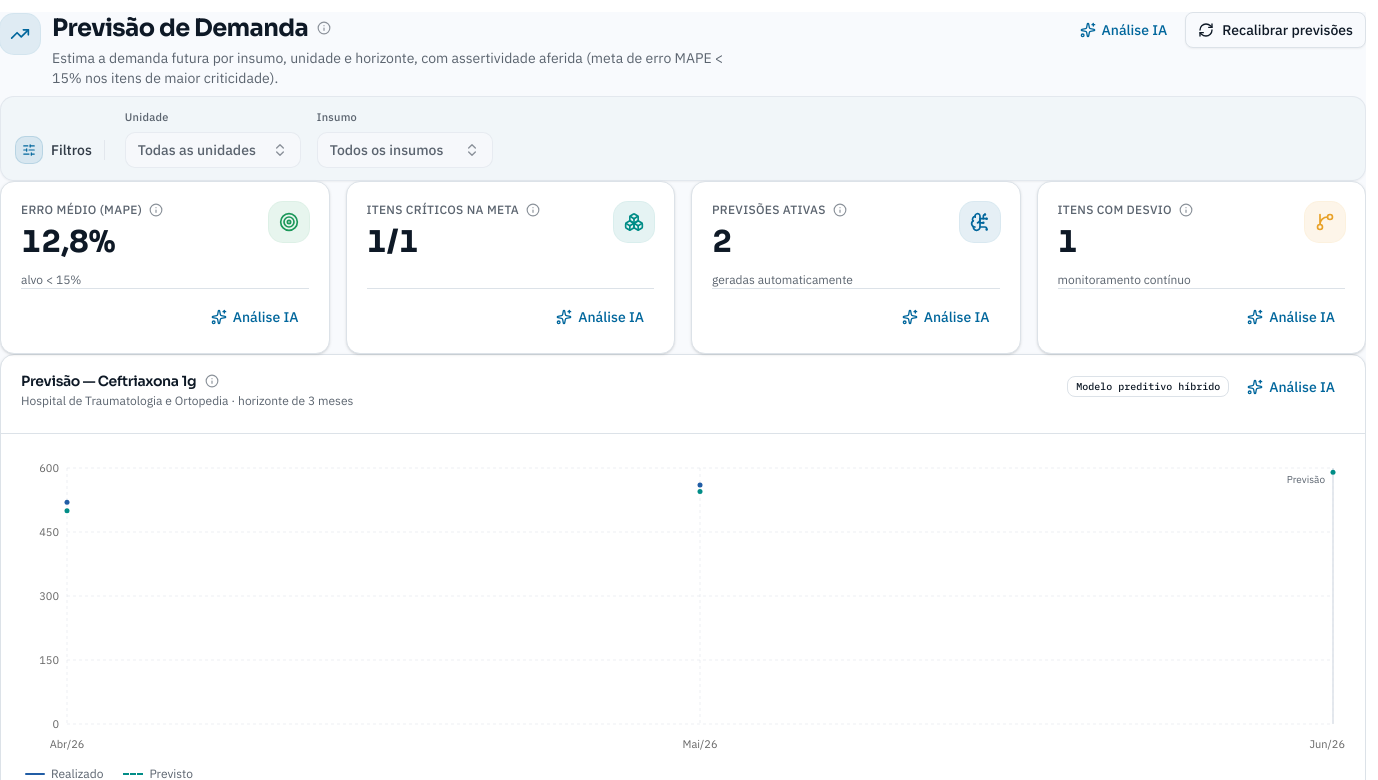
Test case: PrevisaoPage › Gestor vê o botão de recalibrar e recebe o resultado do motor
Click the button "Recalibrar previsões".
click(1276, 30)  # box x1=1185 y1=12 x2=1366 y2=48
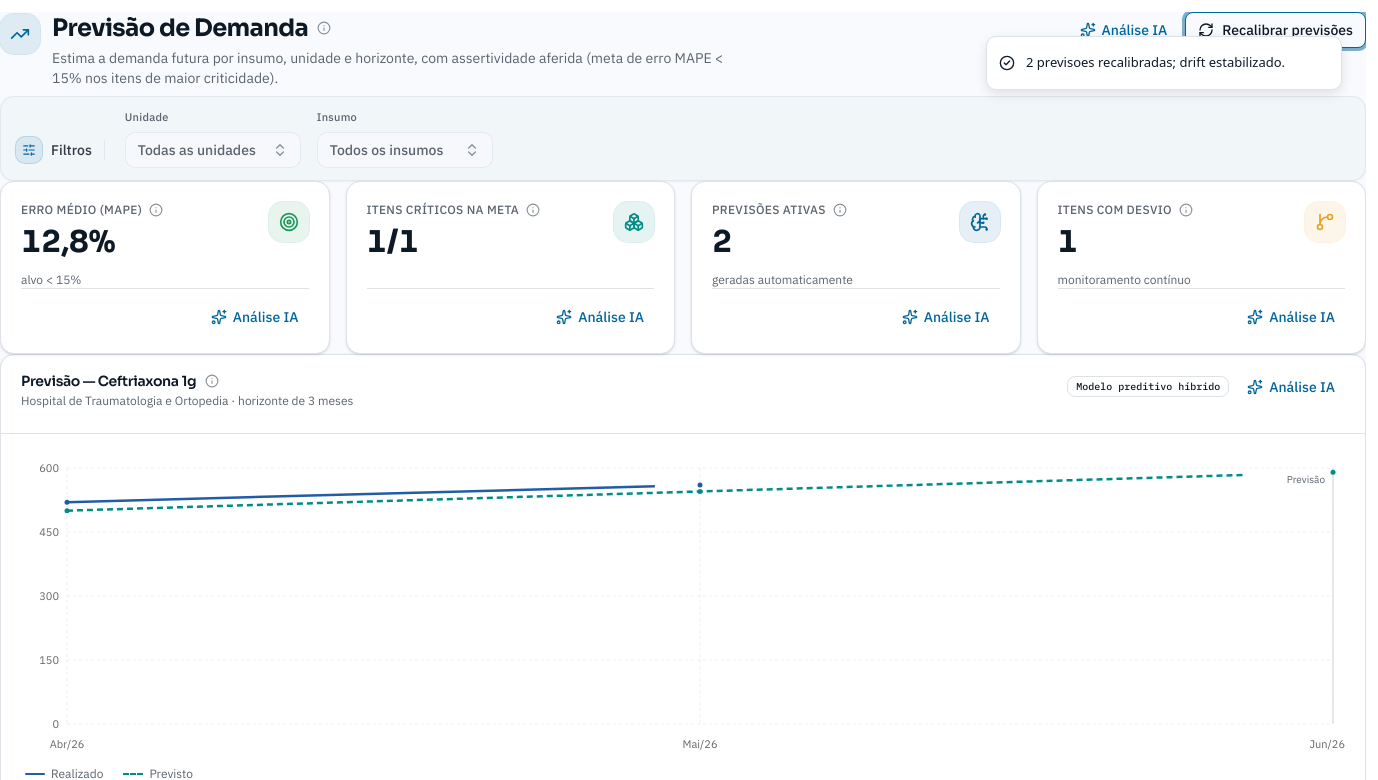
Now the text "2 previsoes recalibradas; drift estabilizado." is shown, box x1=1026 y1=53 x2=1285 y2=72
